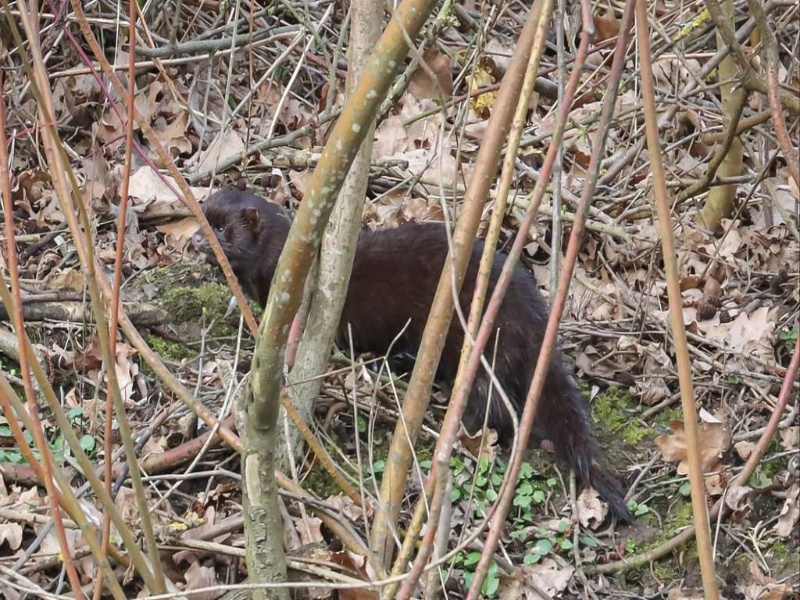minkish: (186, 182, 643, 529)
